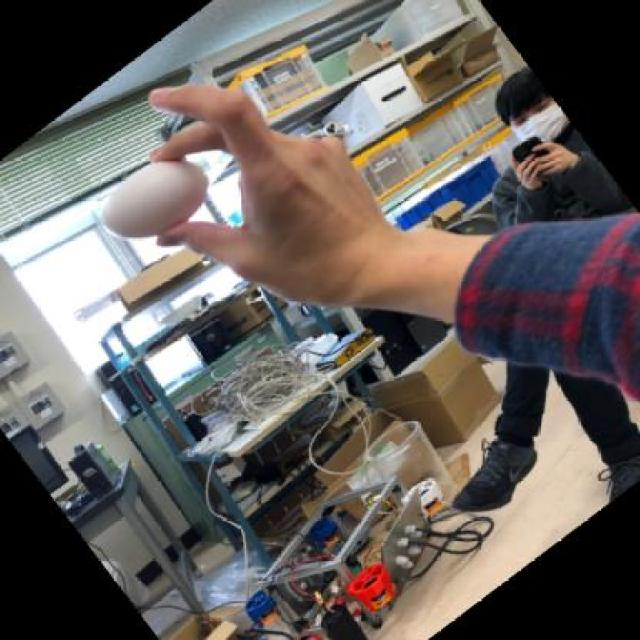egg: (104, 160, 209, 234)
